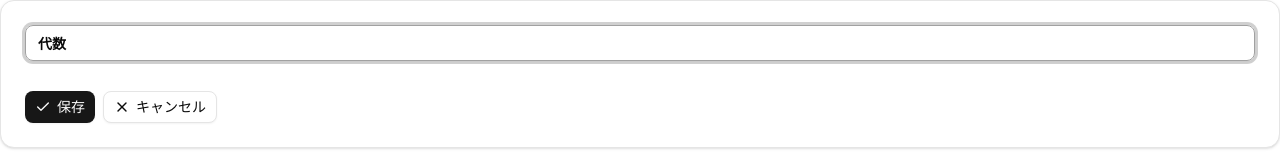
it: TagCard › reverts to original name on cancel
Earlier steps of the test are not shown.
Replace the text in the field showing "代数" with "幾何" at (640, 43), box left=25, top=25, right=1255, bottom=61
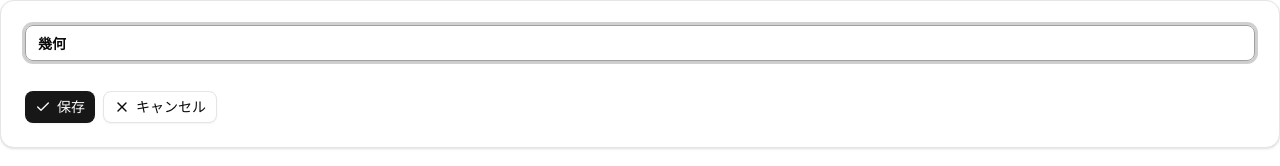
Click the button "キャンセル" at (160, 107), box left=103, top=91, right=217, bottom=123
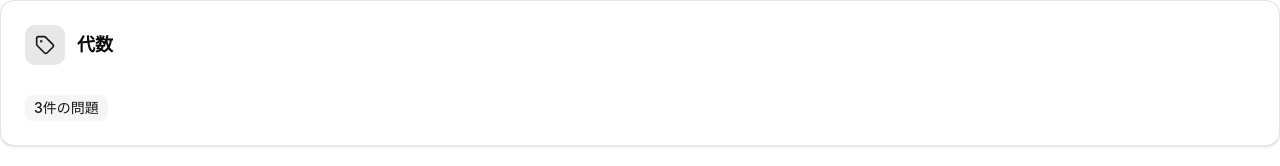
expect the text "代数" is shown: met, box left=77, top=31, right=113, bottom=59
